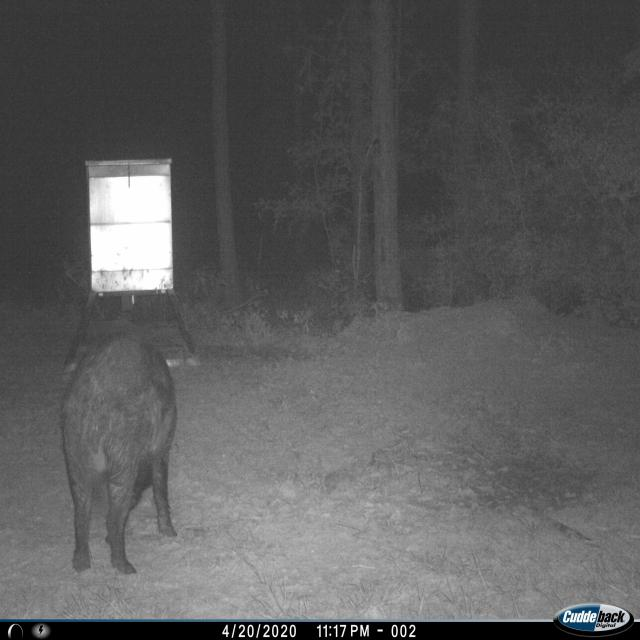wild boar: (54, 319, 185, 582)
